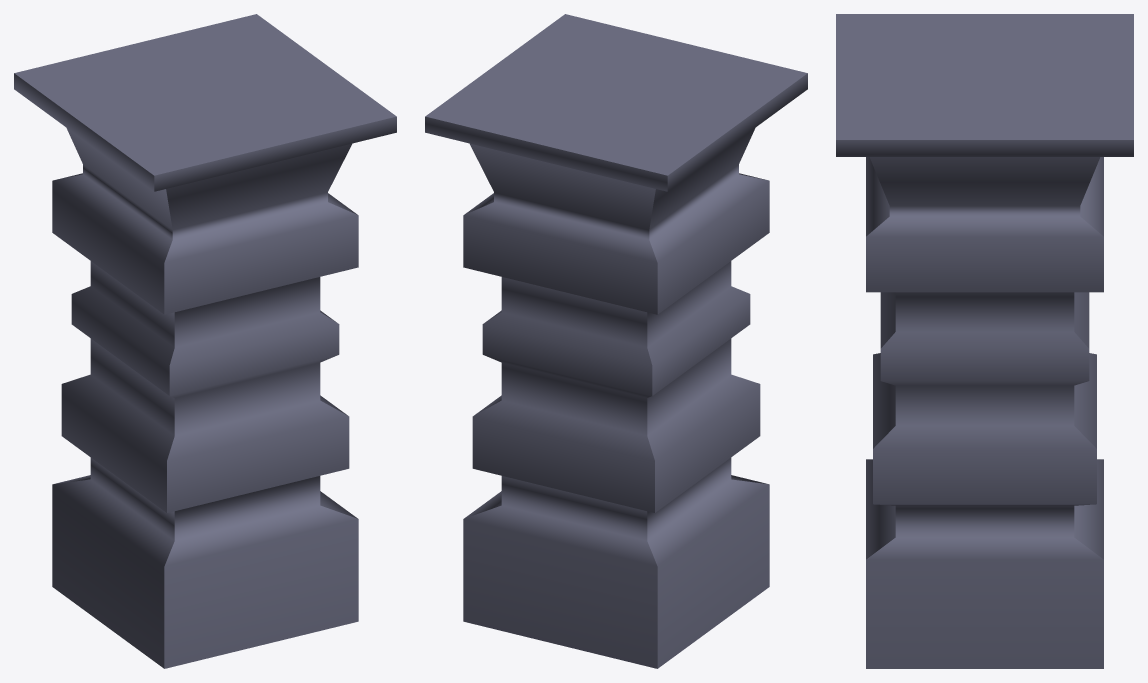
The model's file is pillar_fixed.fbx.
The picture shows the model from 3 angles, left to right: view 1: azimuth 30°, elevation 25°; view 2: azimuth 150°, elevation 25°; view 3: azimuth 270°, elevation 25°; orthographic projection. The views are drawn at different scales.
Parts seen in each view (by area): view 1: Pillar; view 2: Pillar; view 3: Pillar.
Boxes of the visible parts, box(x1,y1,x2,y2) form: Pillar: box(14, 14, 396, 668); Pillar: box(425, 14, 807, 668); Pillar: box(836, 14, 1133, 668).
Bounding box in the file's own units: 160 × 321 × 160.
